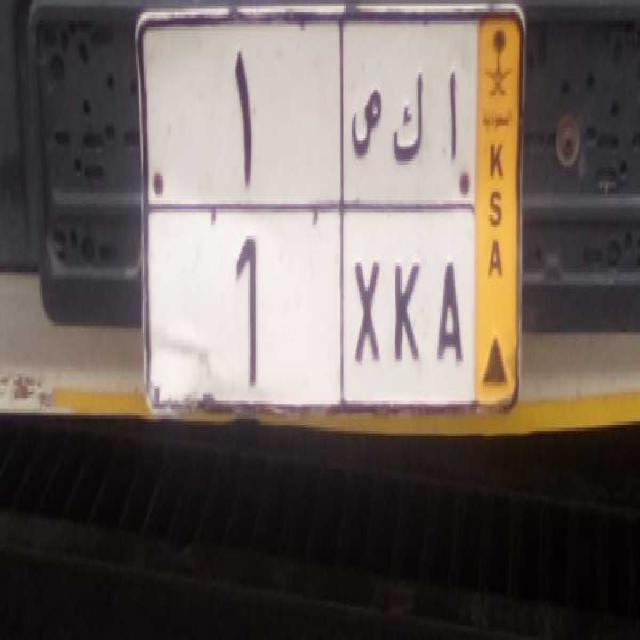license_plate: (148, 206, 474, 405)
